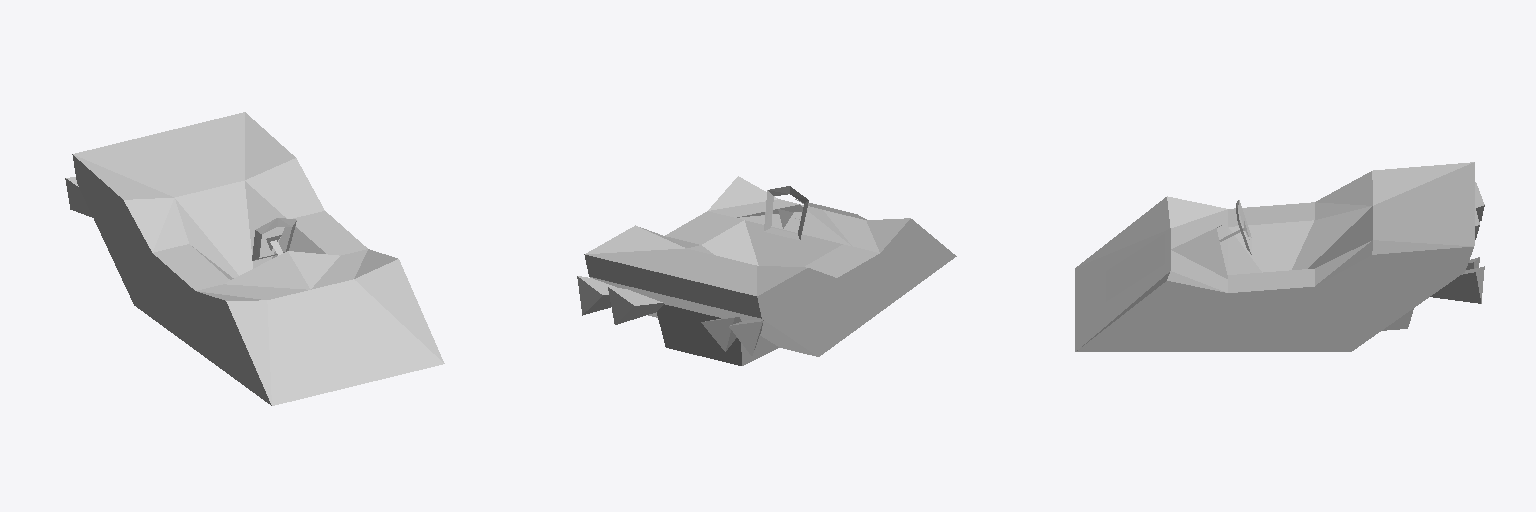
The picture shows the model from 3 angles: view 1: azimuth 30°, elevation 25°; view 2: azimuth 150°, elevation 25°; view 3: azimuth 270°, elevation 25°; orthographic projection.
Parts seen in each view (by area): view 1: polygon0, polygon1; view 2: polygon0, polygon1; view 3: polygon0, polygon1.
Boxes of the visible parts, x1,y1,x2,y2 form: polygon0: [65, 112, 444, 405]; polygon1: [154, 267, 373, 357]; polygon0: [577, 176, 956, 365]; polygon1: [795, 199, 871, 334]; polygon0: [1075, 162, 1484, 351]; polygon1: [1106, 234, 1304, 347].
Bounding box in the file's own units: 0.8472 × 0.4724 × 1.62.